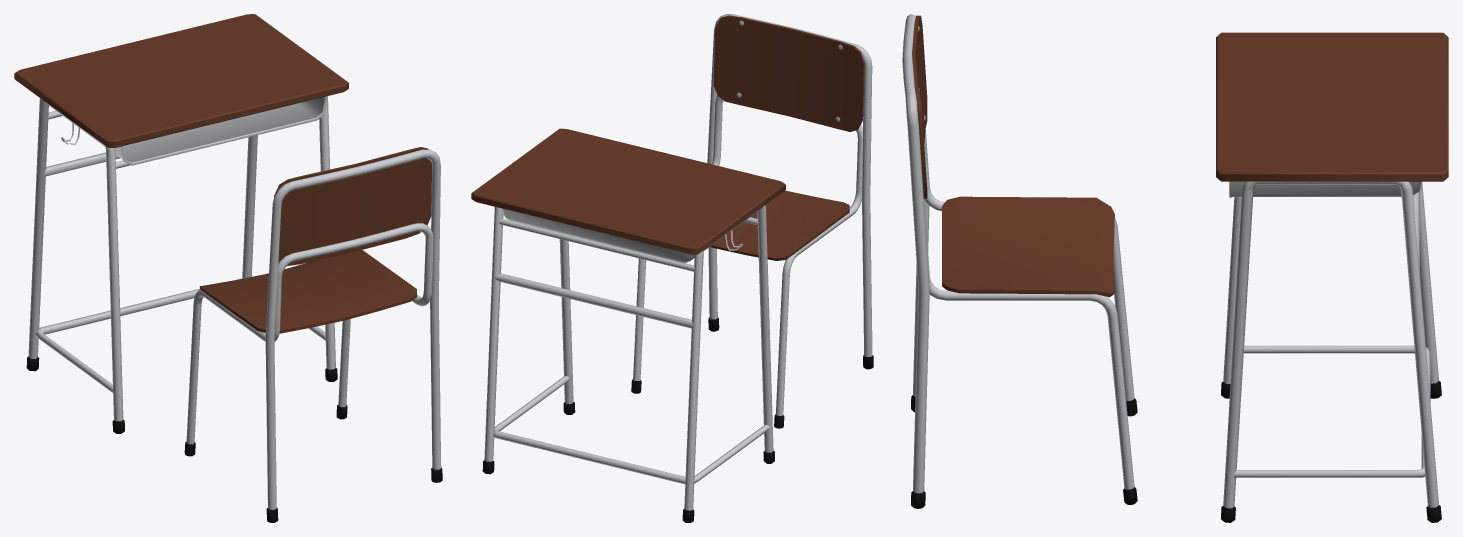
File: DeskAndChair.fbx
3 renders of one model, left to right at view 1: azimuth 30°, elevation 25°; view 2: azimuth 150°, elevation 25°; view 3: azimuth 270°, elevation 25°, orthographic. The views are drawn at different scales.
Visible parts, largest first — view 1: desk, chair; view 2: desk, chair; view 3: desk, chair.
Boxes of the visible parts, x1,y1,x2,y2 form: desk: (14, 14, 348, 433); chair: (184, 147, 442, 522); desk: (471, 128, 785, 522); chair: (631, 14, 873, 428); desk: (1216, 32, 1448, 522); chair: (902, 14, 1137, 508).
Size of the model in its own units: 64.47 by 86.42 by 106.
